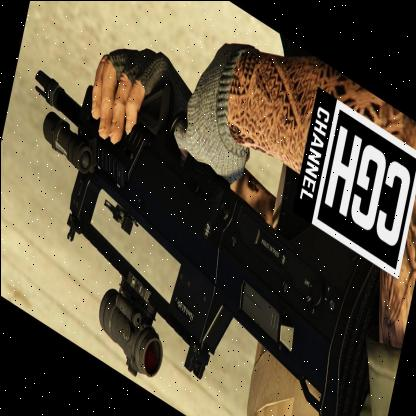rifle: (0, 47, 385, 416)
